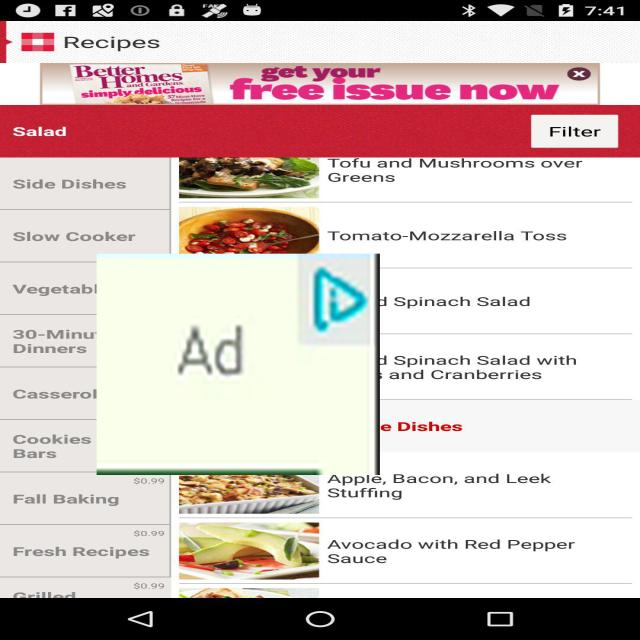sneaking: (96, 254, 380, 475)
